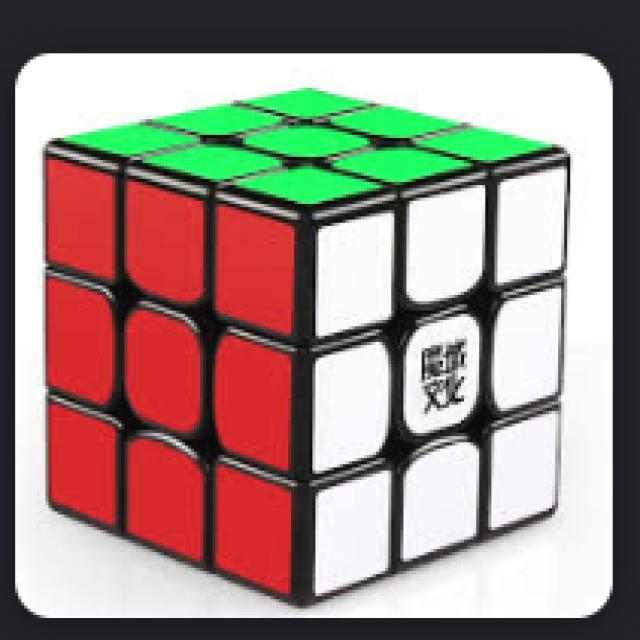Cubo-Resuelto: (45, 88, 561, 602)
